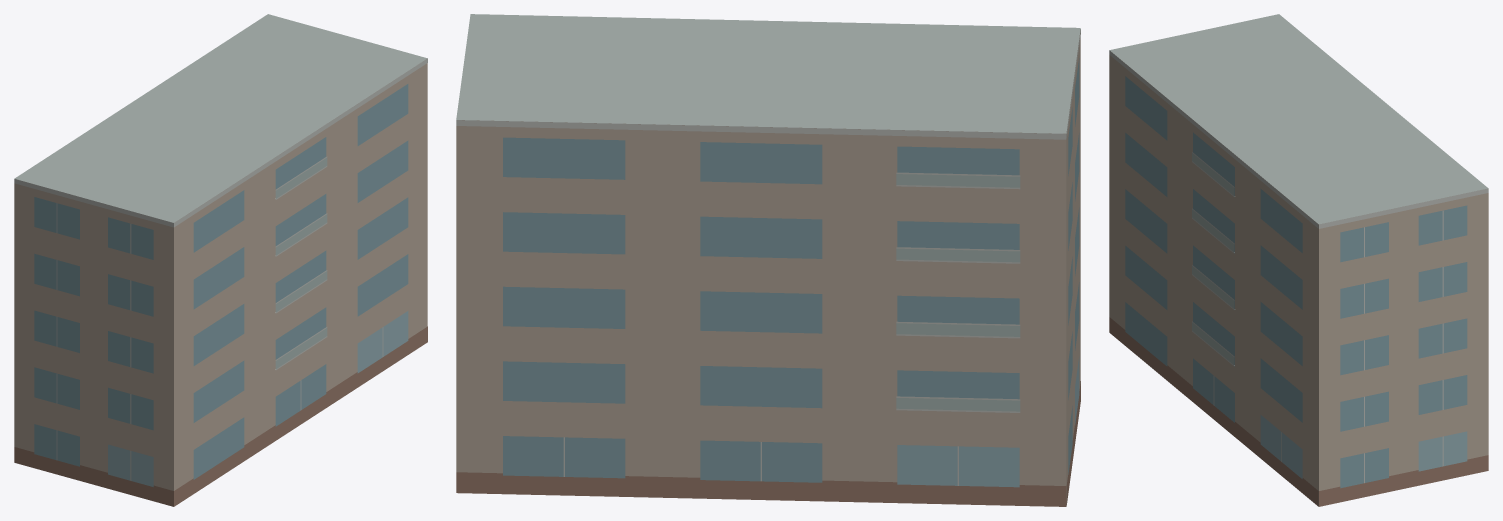
The model's file is survey-upis-32833793.glb.
The picture shows the model from 3 angles, left to right: view 1: azimuth 30°, elevation 25°; view 2: azimuth 150°, elevation 25°; view 3: azimuth 270°, elevation 25°; orthographic projection. The views are drawn at different scales.
Parts seen in each view (by area): view 1: survey-upis-32833793.tmp; view 2: survey-upis-32833793.tmp; view 3: survey-upis-32833793.tmp.
Part boxes in pixels (x1,y1,x2,y2): survey-upis-32833793.tmp: [14, 14, 427, 506]; survey-upis-32833793.tmp: [456, 14, 1080, 506]; survey-upis-32833793.tmp: [1109, 14, 1488, 506].
Bounding box in the file's own units: 24.3 × 15.2 × 18.5.
